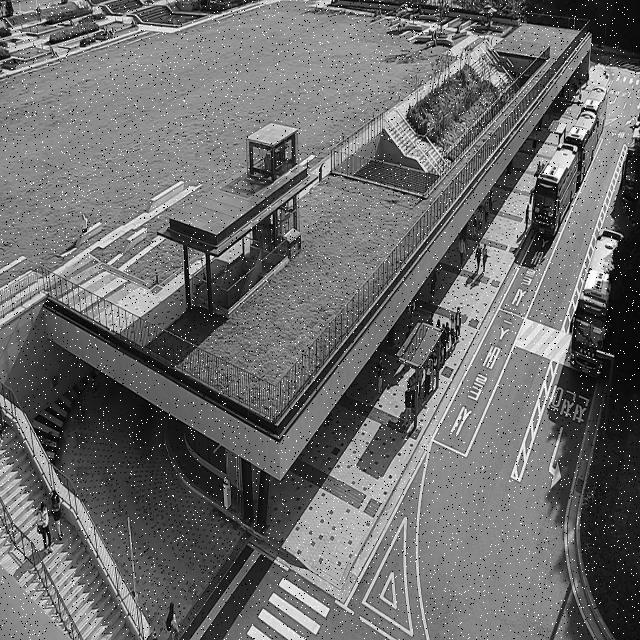queue: (412, 307, 462, 428)
